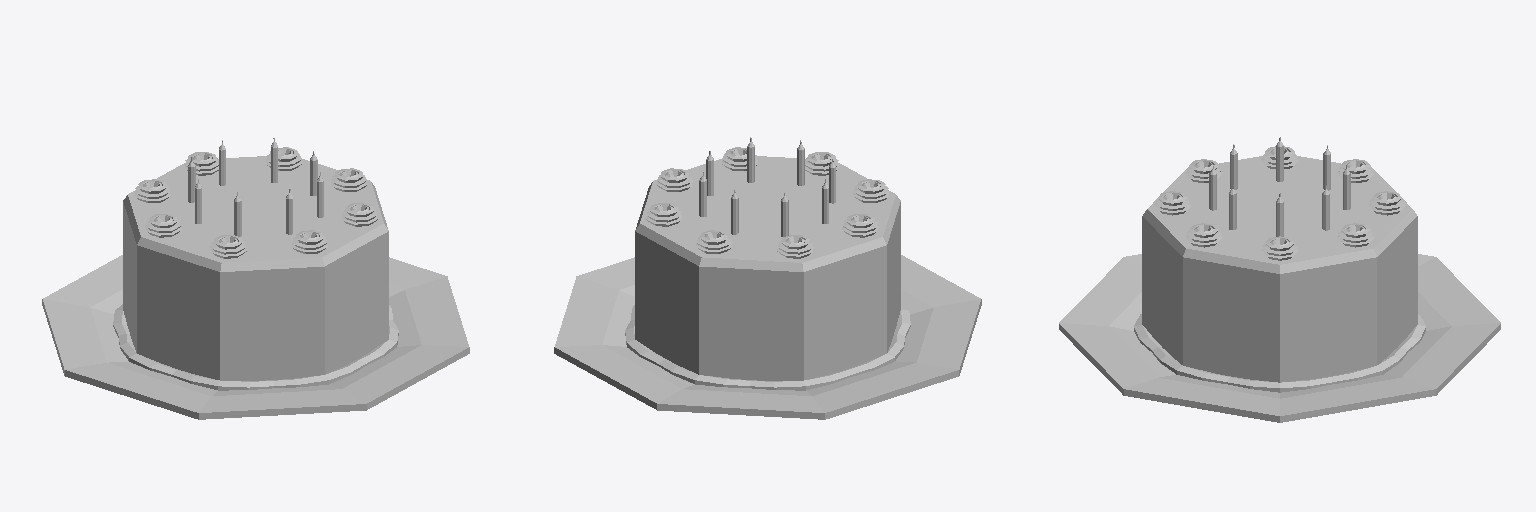
File: Cake.obj
3 renders of one model, left to right at view 1: azimuth 30°, elevation 25°; view 2: azimuth 150°, elevation 25°; view 3: azimuth 270°, elevation 25°, orthographic.
Parts seen in each view (by area): view 1: Circle.006; view 2: Circle.006; view 3: Circle.006.
Boxes of the visible parts, <box> form: Circle.006: <box>42,138,469,419</box>; Circle.006: <box>554,137,981,419</box>; Circle.006: <box>1059,137,1500,422</box>.
Bounding box in the file's own units: 21.8 × 9.92 × 21.8.